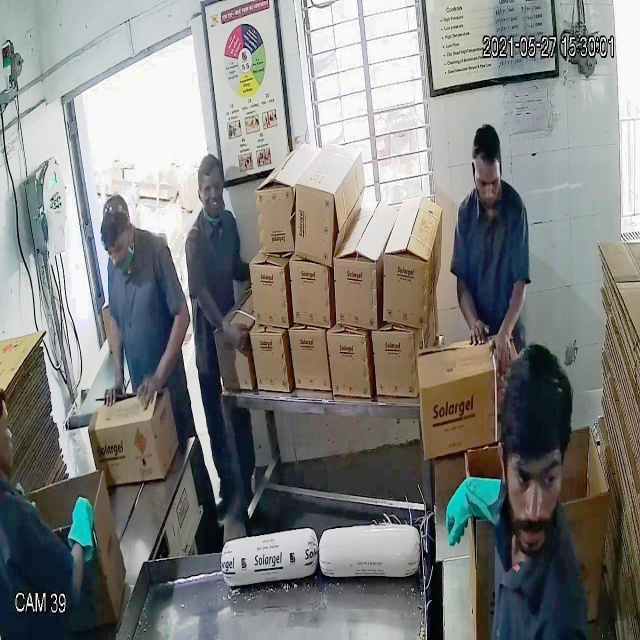Sin_gafas: (501, 444, 570, 513), (466, 162, 510, 196), (196, 174, 228, 202)
